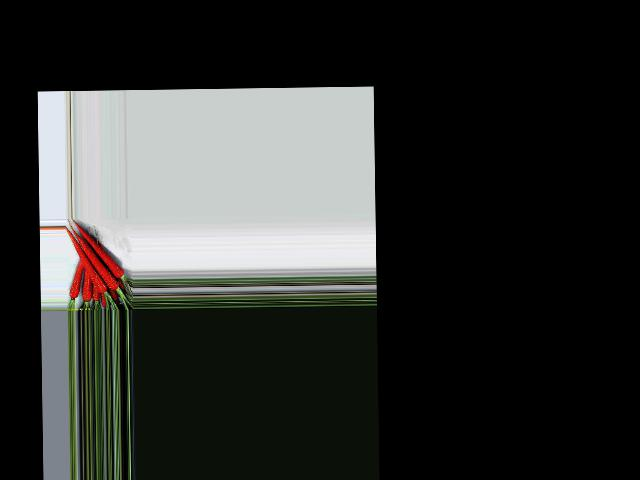carrot: (67, 259, 86, 299)
